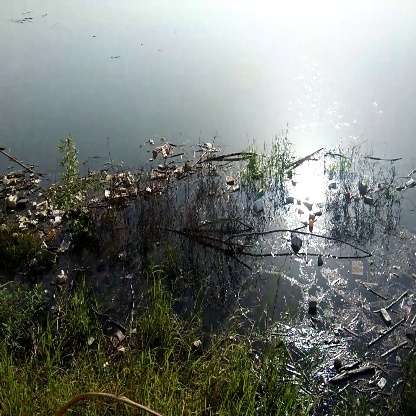branch: (231, 222, 376, 257)
